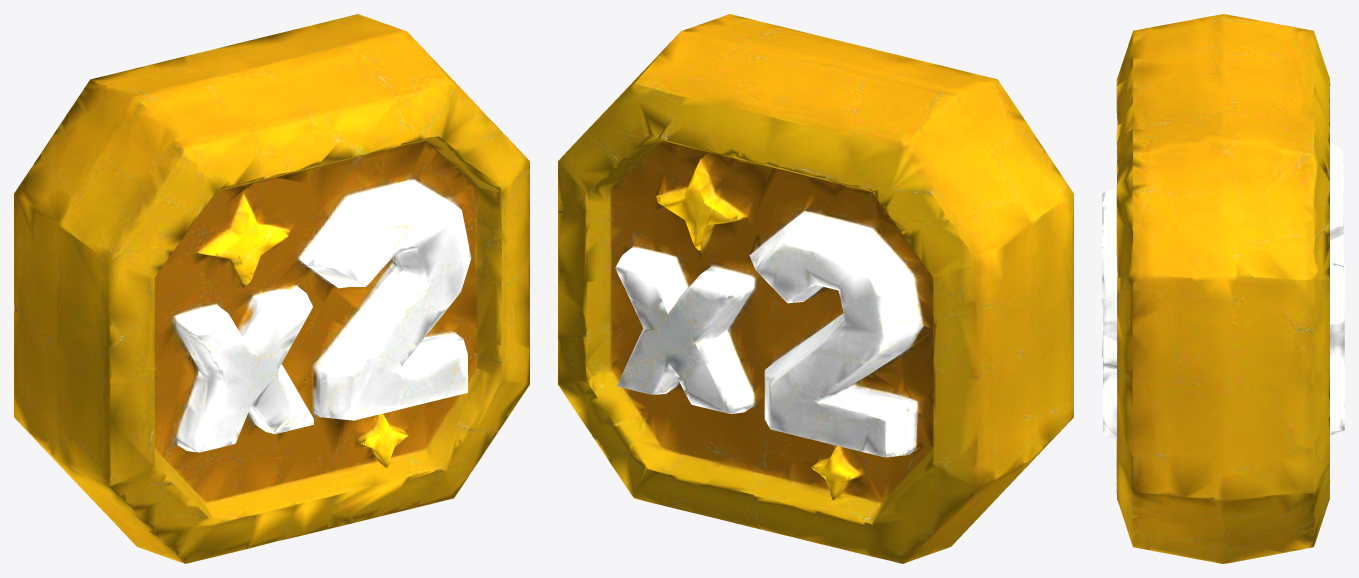
The model's file is multiplier.glb.
The picture shows the model from 3 angles, left to right: view 1: azimuth 30°, elevation 25°; view 2: azimuth 150°, elevation 25°; view 3: azimuth 270°, elevation 25°; orthographic projection. The views are drawn at different scales.
Size of the model in its own units: 1.9 by 1.9 by 0.9803.
Materials: 1 (1 with a texture image).
